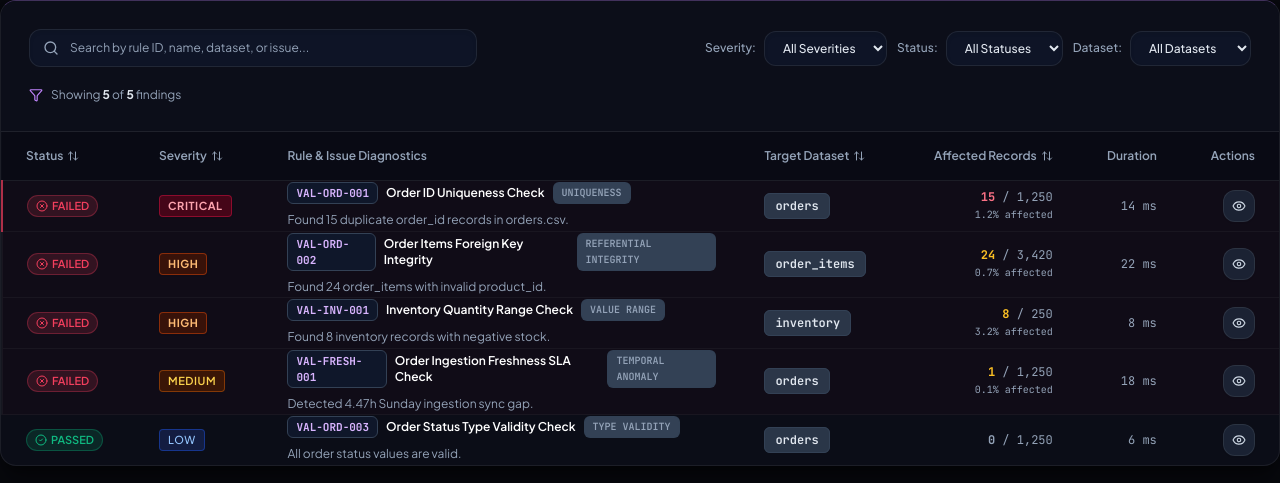
FindingsTable Component › filters by dataset correctly
This screenshot has width=1280, height=483.
Select "inventory" in the dropdown with test id "filter-dataset": (1190, 48) [1130, 30, 1251, 66]
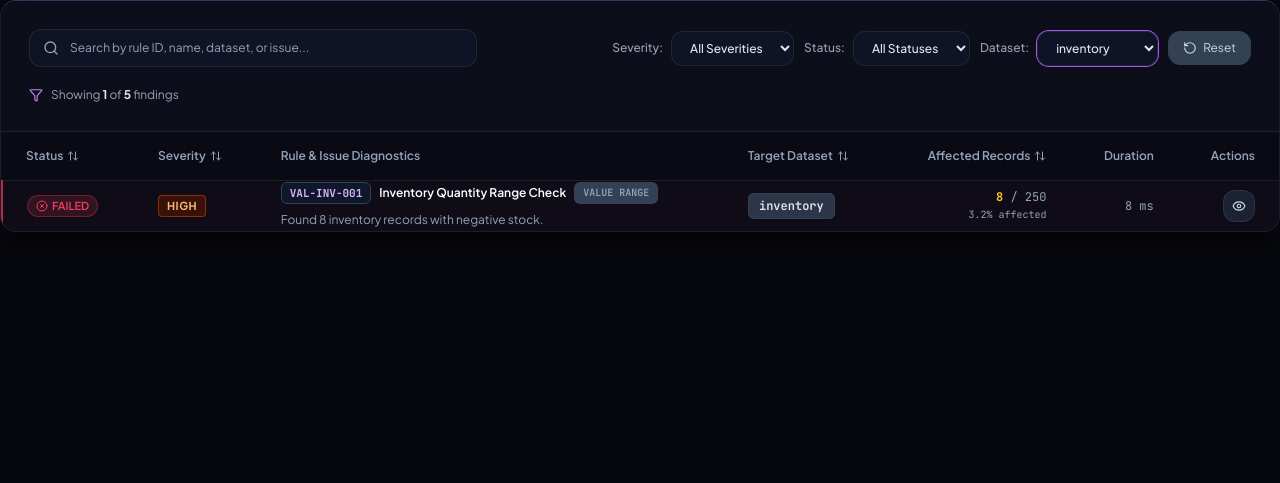
Check: the row with test id "finding-row-VAL-INV-001" is shown, box [2, 180, 1279, 230]
Check: the row with test id "finding-row-VAL-ORD-001" is gone
Check: the row with test id "finding-row-VAL-ORD-002" is gone
